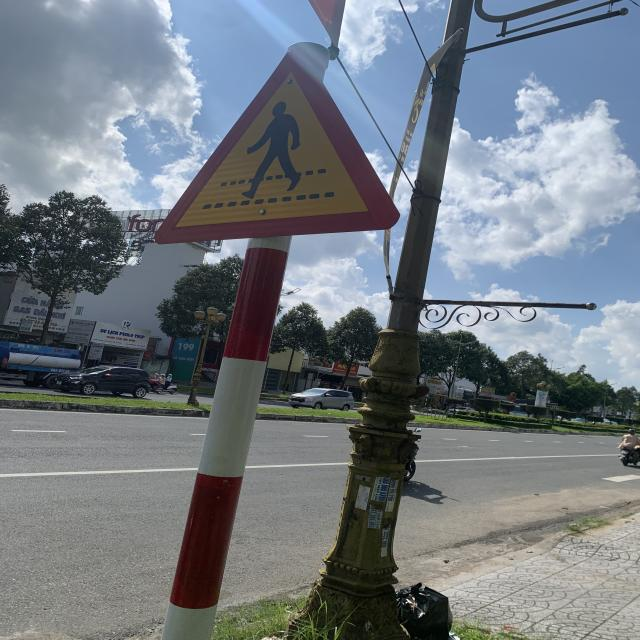Duong_Nguoi_Di_Bo_Sang_Ngang: (157, 46, 402, 244)
